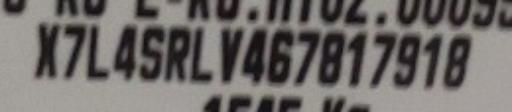letter: (366, 31, 402, 87), (442, 33, 476, 87), (212, 27, 244, 83), (60, 21, 88, 79), (32, 21, 62, 75), (316, 33, 348, 83), (292, 29, 320, 85), (266, 29, 294, 83), (396, 31, 424, 85), (86, 21, 112, 77), (112, 23, 138, 79), (188, 27, 214, 83), (242, 27, 268, 83), (344, 31, 370, 87), (420, 33, 444, 89), (138, 25, 162, 79), (166, 27, 190, 79)
